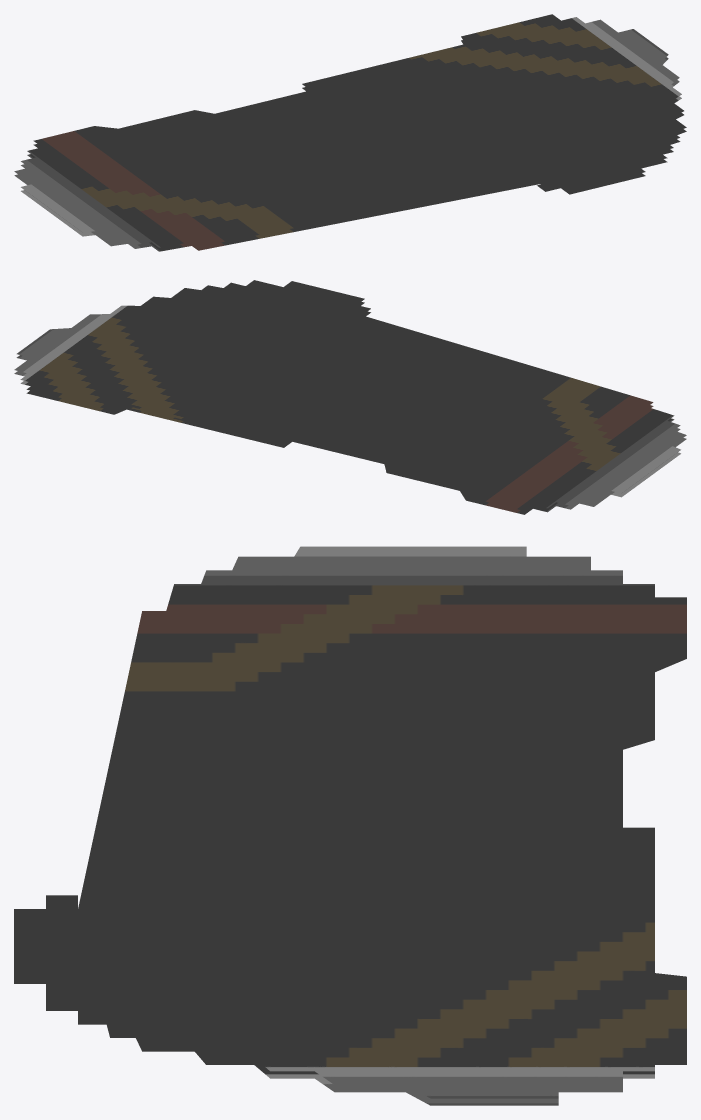
The model's file is Flashlight.fbx.
The picture shows the model from 3 angles, top to bottom: view 1: azimuth 30°, elevation 25°; view 2: azimuth 150°, elevation 25°; view 3: azimuth 270°, elevation 25°; orthographic projection. The views are drawn at different scales.
Visible parts, largest first — view 1: sprite-0001.001; view 2: sprite-0001.001; view 3: sprite-0001.001.
Boxes of the visible parts, box(x1,y1,x2,y2) form: sprite-0001.001: box(14, 14, 686, 251); sprite-0001.001: box(14, 280, 686, 514); sprite-0001.001: box(14, 546, 686, 1105).
Size of the model in its own units: 8200 by 50 by 4200.
